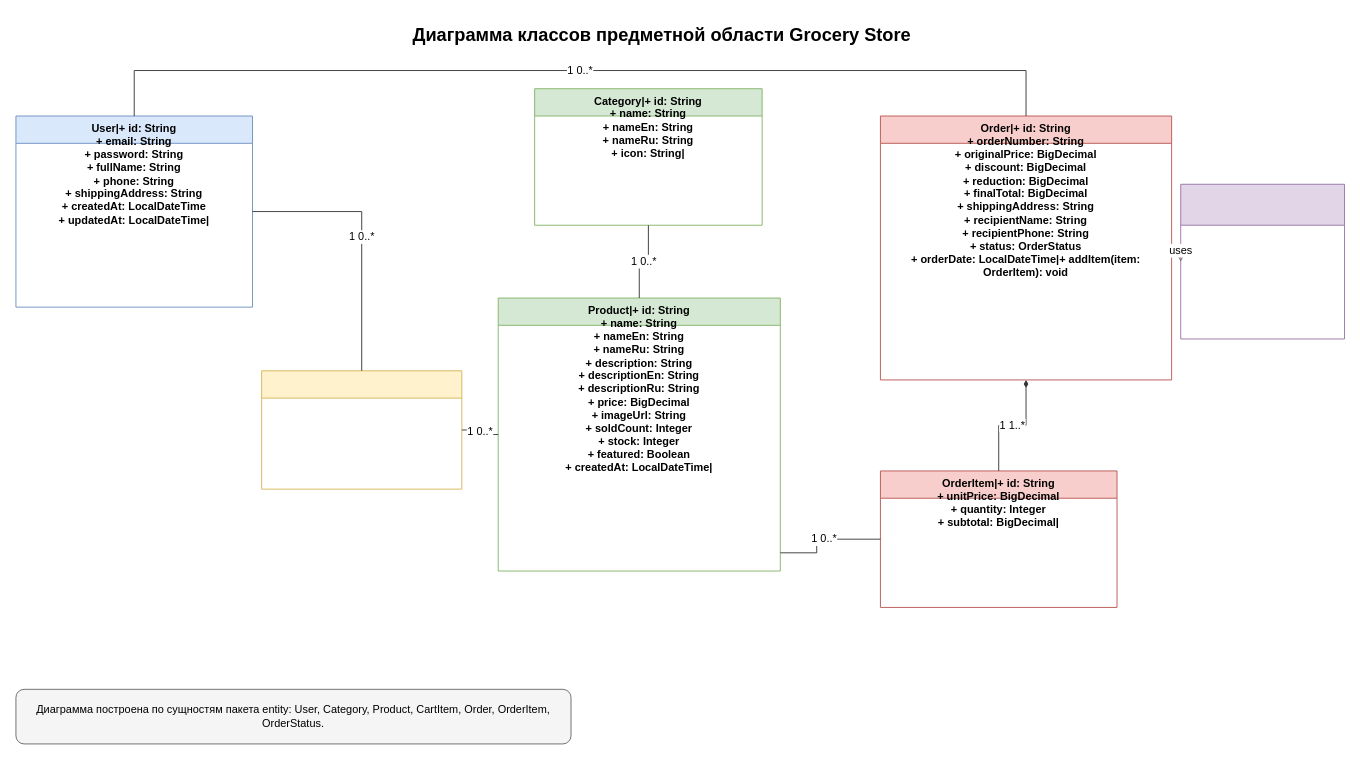
Image size: 1360x760. Some labels were removed from this diagram. Each missing label, with the centre of its shape:
<<enum>> OrderStatus|PENDING PROCESSING SHIPPED DELIVERED CANCELLED|: point 1262,261
CartItem|+ id: String + quantity: Integer|+ getSubtotal(): BigDecimal: point 361,429
